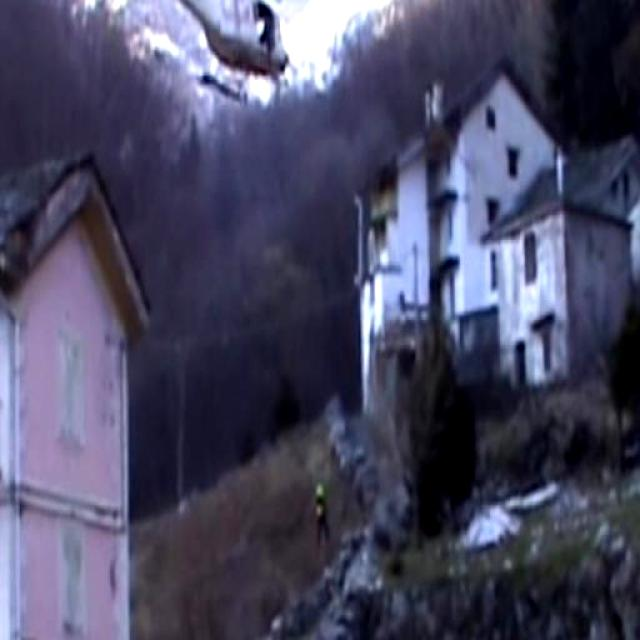drone: (124, 0, 306, 112)
